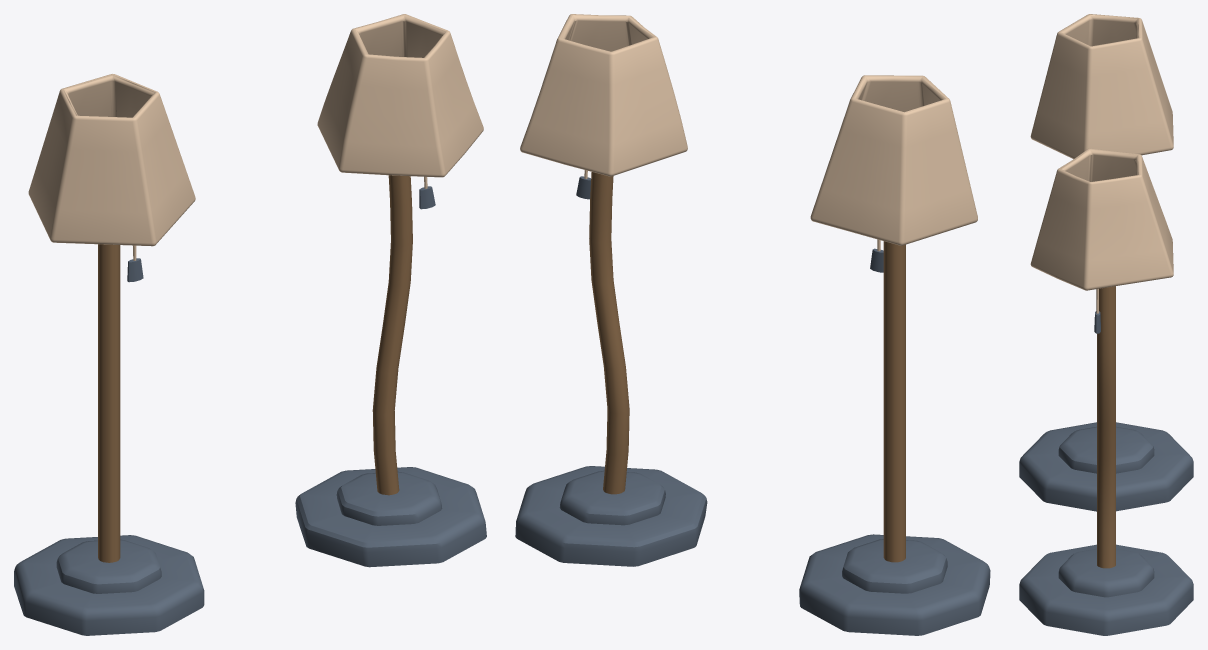
Rendered from Props_LampeLongue_to_check.fbx.
3 views of the same model, side by side, from view 1: azimuth 30°, elevation 25°; view 2: azimuth 150°, elevation 25°; view 3: azimuth 270°, elevation 25° (orthographic). The views are drawn at different scales.
Parts seen in each view (by area): view 1: LampeLongue.001, LampeLongue, Abajour; view 2: LampeLongue.001, LampeLongue, Abajour; view 3: LampeLongue.001, Abajour, LampeLongue.
Part boxes in pixels (box(x1,y1,x2,y2)): LampeLongue.001: box(295, 14, 486, 567); LampeLongue: box(14, 244, 204, 635); Abajour: box(28, 74, 195, 246); LampeLongue.001: box(515, 14, 707, 566); LampeLongue: box(799, 239, 990, 635); Abajour: box(810, 75, 977, 245); LampeLongue.001: box(1019, 148, 1193, 635); Abajour: box(1030, 14, 1173, 158); LampeLongue: box(1019, 422, 1193, 511).
Bounding box in the file's own units: 158 × 168 × 59.17.
